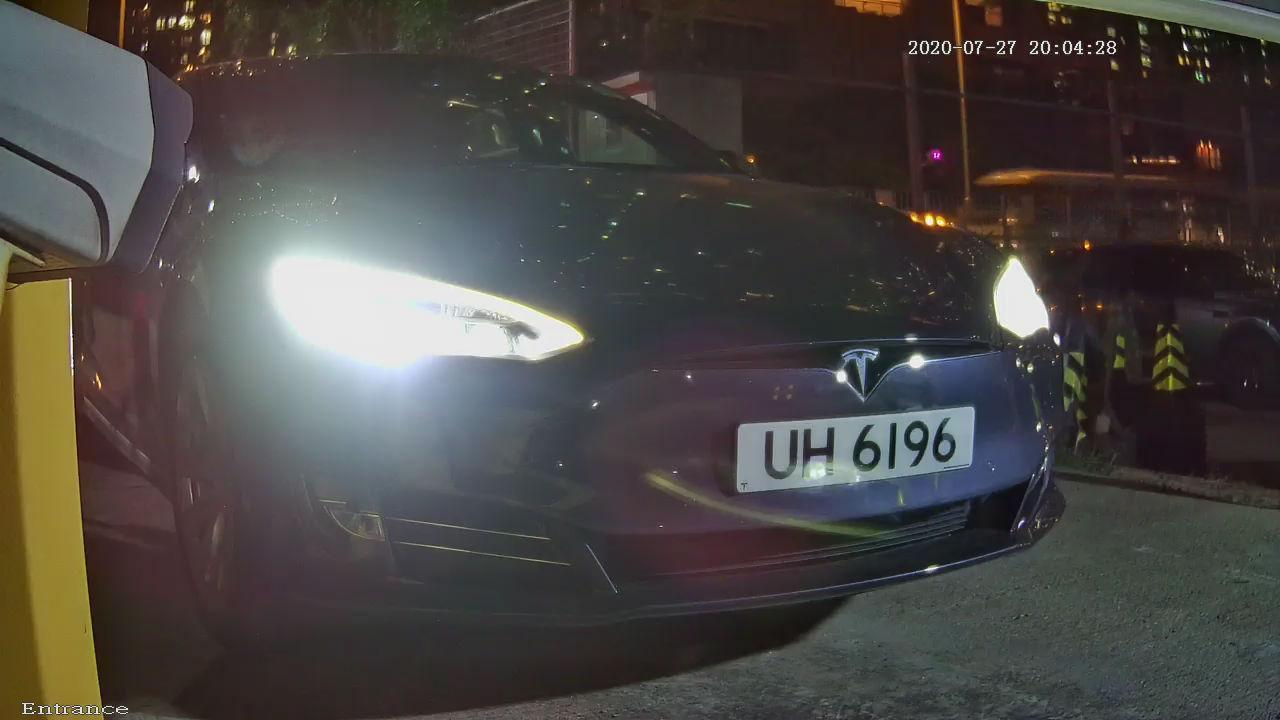privatecar: (115, 10, 1115, 672)
